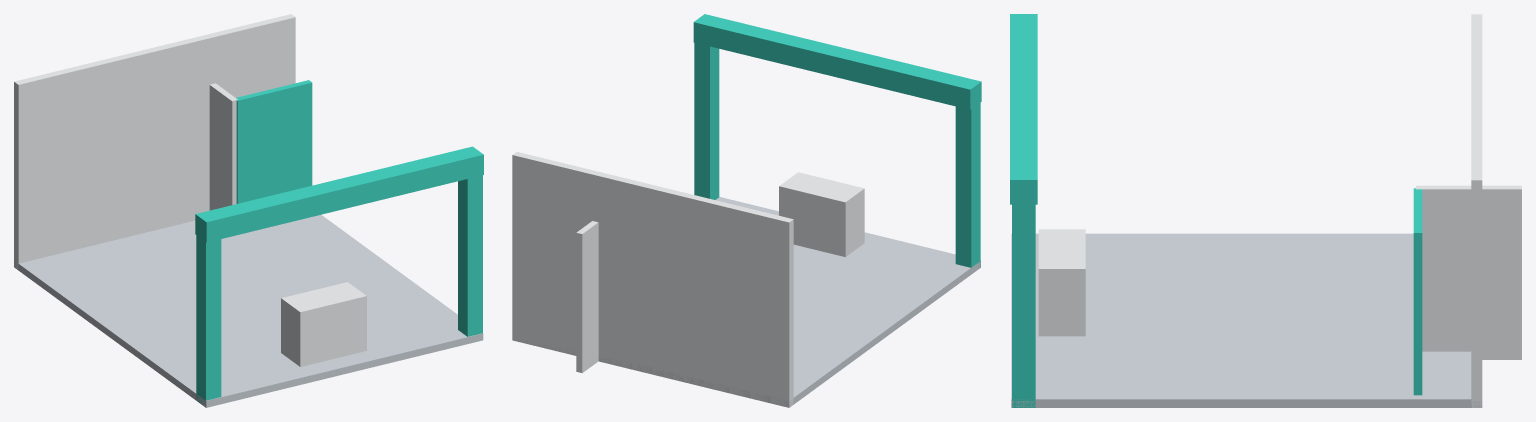
The picture shows the model from 3 angles, left to right: view 1: azimuth 30°, elevation 25°; view 2: azimuth 150°, elevation 25°; view 3: azimuth 270°, elevation 25°; orthographic projection. The views are drawn at different scales.
Visible parts, largest first — view 1: Exhibition Booth Concept; view 2: Exhibition Booth Concept; view 3: Exhibition Booth Concept.
Part boxes in pixels (x1=…): Exhibition Booth Concept: x1=14, y1=14, x2=483, y2=407; Exhibition Booth Concept: x1=512, y1=14, x2=981, y2=407; Exhibition Booth Concept: x1=1010, y1=14, x2=1521, y2=407.
Size of the model in its own units: 5 by 3.2 by 6.52.
